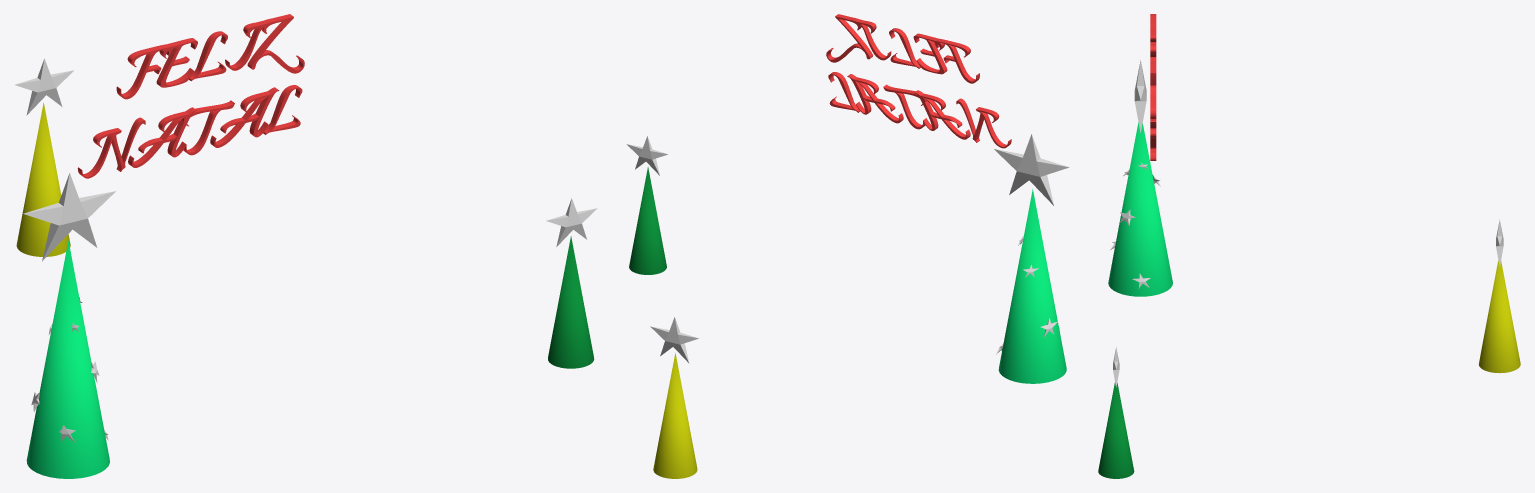
File: uf-d021-natal.glb
3 renders of one model, left to right at view 1: azimuth 30°, elevation 25°; view 2: azimuth 150°, elevation 25°; view 3: azimuth 270°, elevation 25°, orthographic. The views are drawn at different scales.
Parts seen in each view (by area): view 1: menataltree, Text.053, Text.052, menataltree.002, menataltree.001, menatalstar001, menatalstar001.002, menatalstar001.001; view 2: menataltree, Text.053, menataltree.002, Text.052, menataltree.001, menatalstar001, menatalstar001.002, menatalstar001.001; view 3: menataltree, menataltree.002, menataltree.001, Text.052, menatalstar001.
Boxes of the visible parts, x1,y1,x2,y2 form: menataltree: [26, 240, 109, 478]; Text.053: [77, 85, 302, 178]; Text.052: [116, 14, 304, 99]; menataltree.002: [16, 102, 70, 256]; menataltree.001: [548, 236, 594, 368]; menatalstar001: [23, 173, 115, 261]; menatalstar001.002: [14, 58, 73, 115]; menatalstar001.001: [546, 198, 597, 246]; menataltree: [998, 189, 1066, 383]; Text.053: [828, 72, 1011, 148]; menataltree.002: [653, 352, 697, 478]; Text.052: [826, 14, 979, 83]; menataltree.001: [629, 167, 666, 274]; menatalstar001: [994, 134, 1069, 205]; menatalstar001.002: [650, 317, 698, 363]; menatalstar001.001: [626, 136, 667, 175]; menataltree: [1108, 122, 1172, 296]; menataltree.002: [1478, 260, 1520, 373]; menataltree.001: [1098, 382, 1134, 478]; Text.052: [1150, 14, 1156, 119]; menatalstar001: [1134, 60, 1146, 132].
Bounding box in the file's own units: 6.83 × 4.6 × 5.75.
